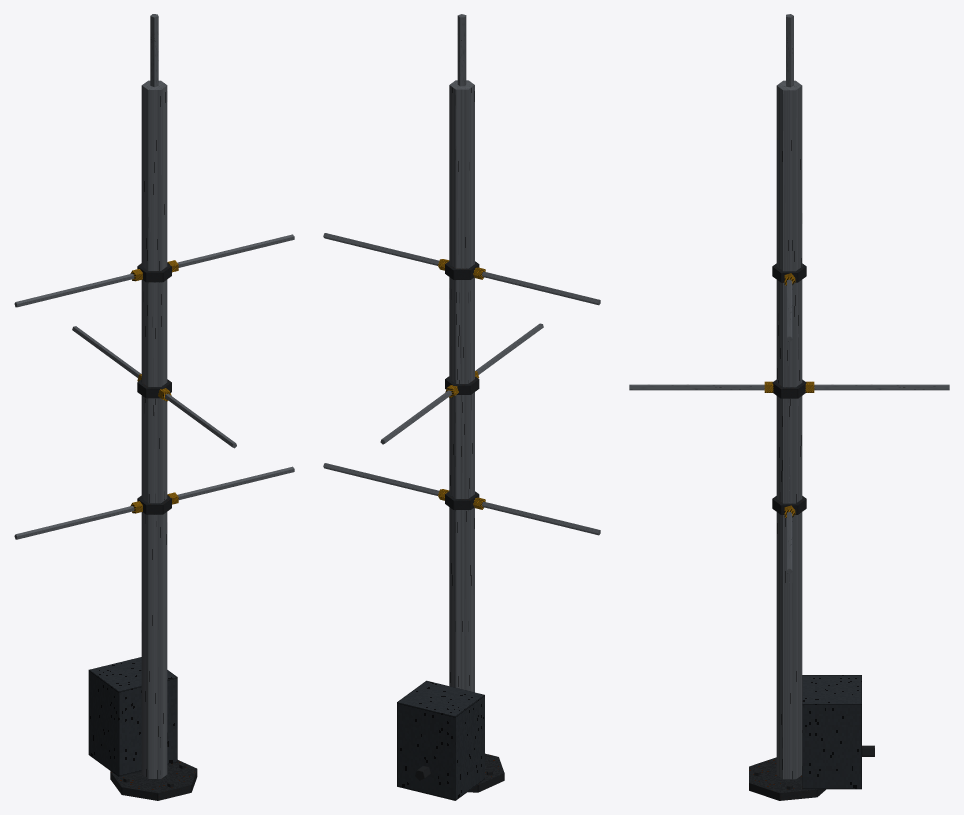
File: comms_antenna.glb
3 views of the same model, side by side, from view 1: azimuth 30°, elevation 25°; view 2: azimuth 150°, elevation 25°; view 3: azimuth 270°, elevation 25° (orthographic).
Visible parts, largest first — view 1: comms_antenna; view 2: comms_antenna; view 3: comms_antenna.
Part boxes in pixels (x1,y1,x2,y2): comms_antenna: [14, 14, 294, 800]; comms_antenna: [323, 14, 600, 800]; comms_antenna: [629, 14, 949, 800].
Size of the model in its own units: 0.75 by 1.98 by 0.75.
Materials: 1 (1 with a texture image).
